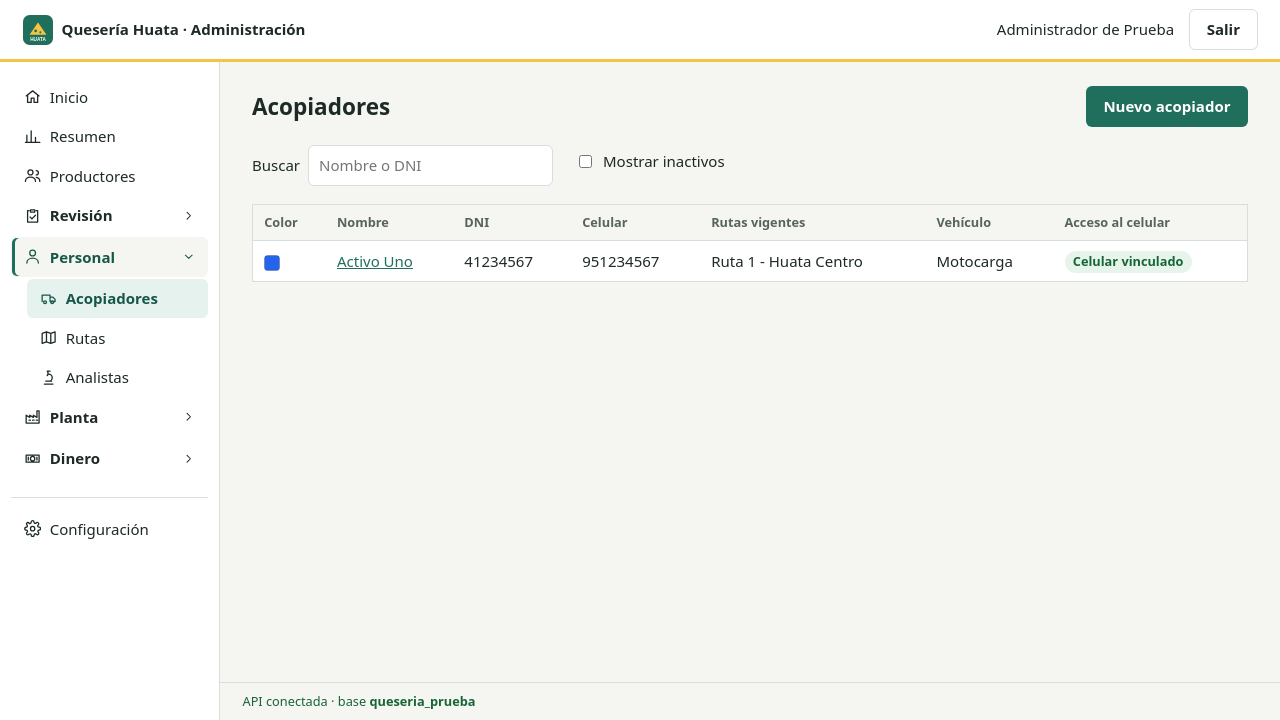
Test: lista de acopiadores › los inactivos se ocultan hasta marcar 'Mostrar inactivos', y se ven como Inactivo
Check: the link "Activo Uno" is shown, box [337,251,413,271]
Check: the link "Inactivo Dos" is not shown
Step 1. Click the checkbox labelled "Mostrar inactivos" → point(586, 161), box [579,155,592,168]
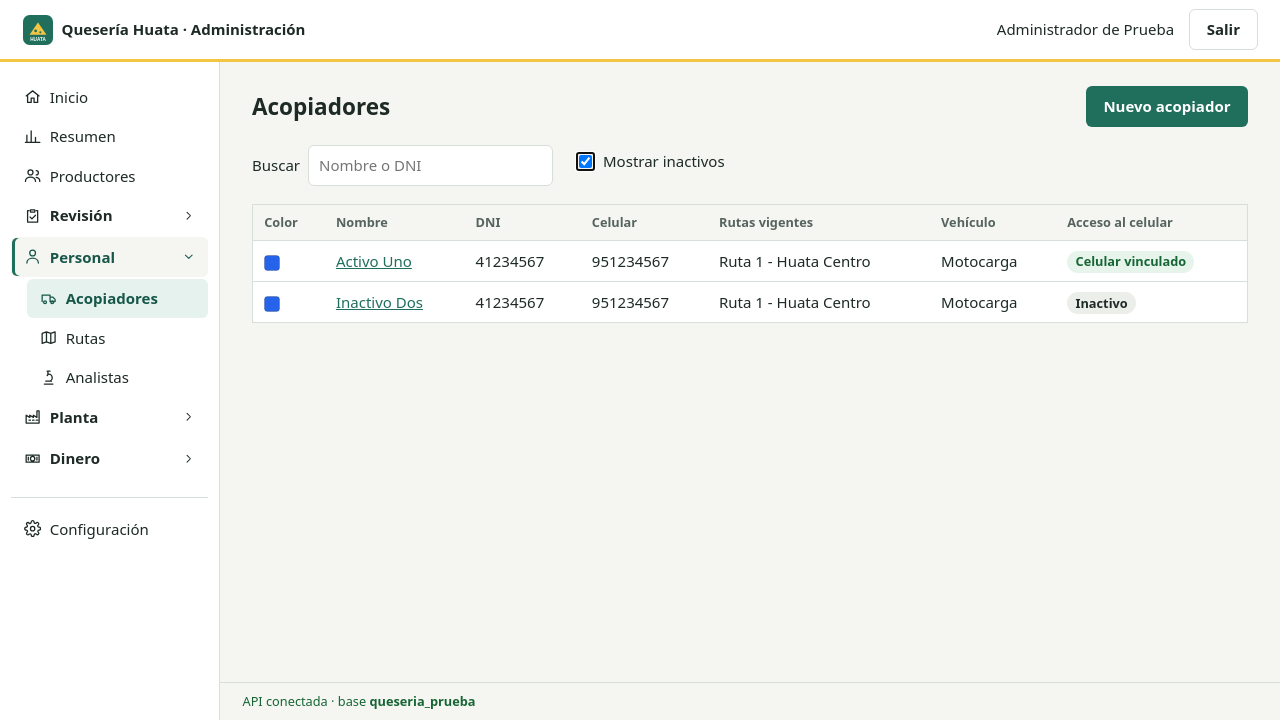
Check: the text "Inactivo" is shown, box [1067,292,1136,314]
